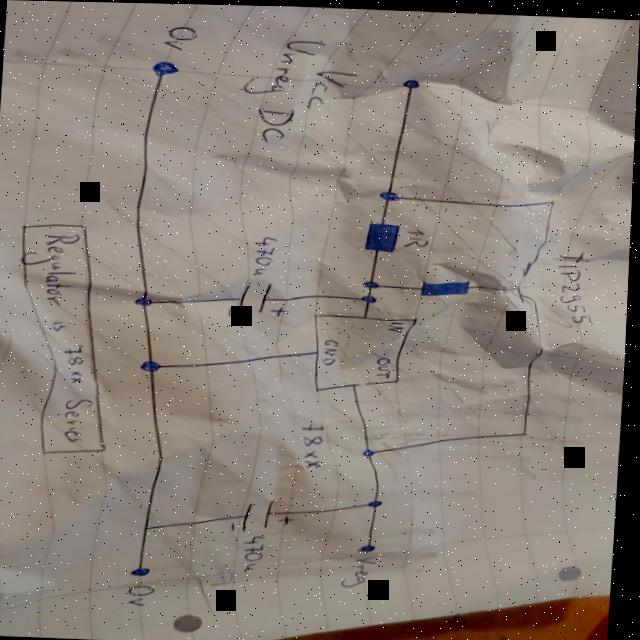capacitor: (225, 279, 294, 321), (234, 496, 300, 533)
junction: (379, 187, 404, 200), (142, 358, 165, 372), (135, 294, 157, 306), (367, 496, 389, 507), (361, 291, 381, 302), (364, 278, 384, 287), (364, 445, 381, 455), (143, 522, 159, 531), (522, 427, 535, 435), (548, 196, 561, 202)
resistor: (363, 218, 404, 251), (421, 276, 474, 296)
terminal: (151, 60, 180, 76), (132, 564, 157, 577), (402, 76, 423, 87), (361, 541, 381, 551)
text: (12, 230, 109, 443), (238, 35, 328, 144), (555, 249, 599, 324), (305, 67, 360, 110), (303, 421, 332, 467), (250, 233, 282, 274), (244, 532, 274, 573), (345, 553, 380, 586), (162, 23, 199, 50), (130, 583, 161, 606), (406, 225, 432, 246), (324, 336, 343, 364), (377, 354, 396, 377), (389, 318, 410, 330)
transistor: (517, 254, 546, 302)
